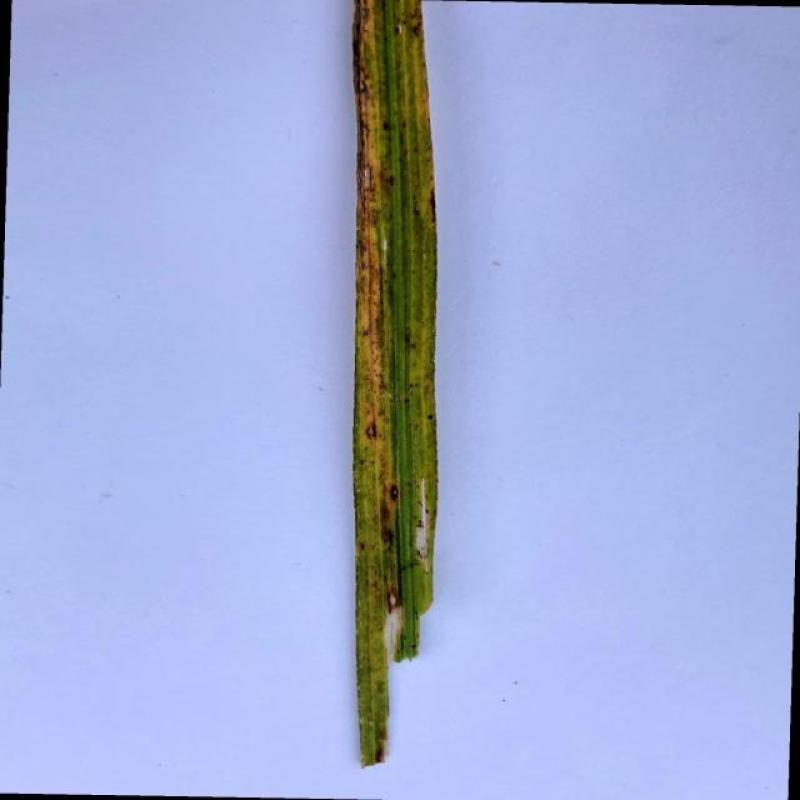Rice Tungro: (351, 0, 399, 570), (405, 0, 437, 230)
